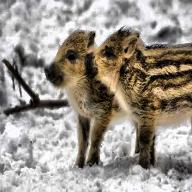boar: (86, 25, 191, 169), (36, 27, 118, 159)
